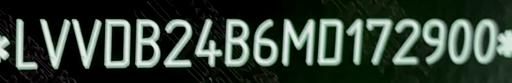letter: (278, 16, 316, 69), (36, 15, 70, 70), (100, 16, 132, 71), (68, 17, 100, 70), (193, 15, 223, 70), (363, 15, 393, 70), (162, 16, 192, 71), (222, 16, 252, 71), (12, 15, 40, 72), (133, 15, 161, 70), (418, 16, 448, 67), (472, 16, 500, 69), (252, 17, 278, 72), (316, 17, 344, 68), (393, 18, 421, 69), (446, 17, 472, 66), (346, 15, 366, 70)
